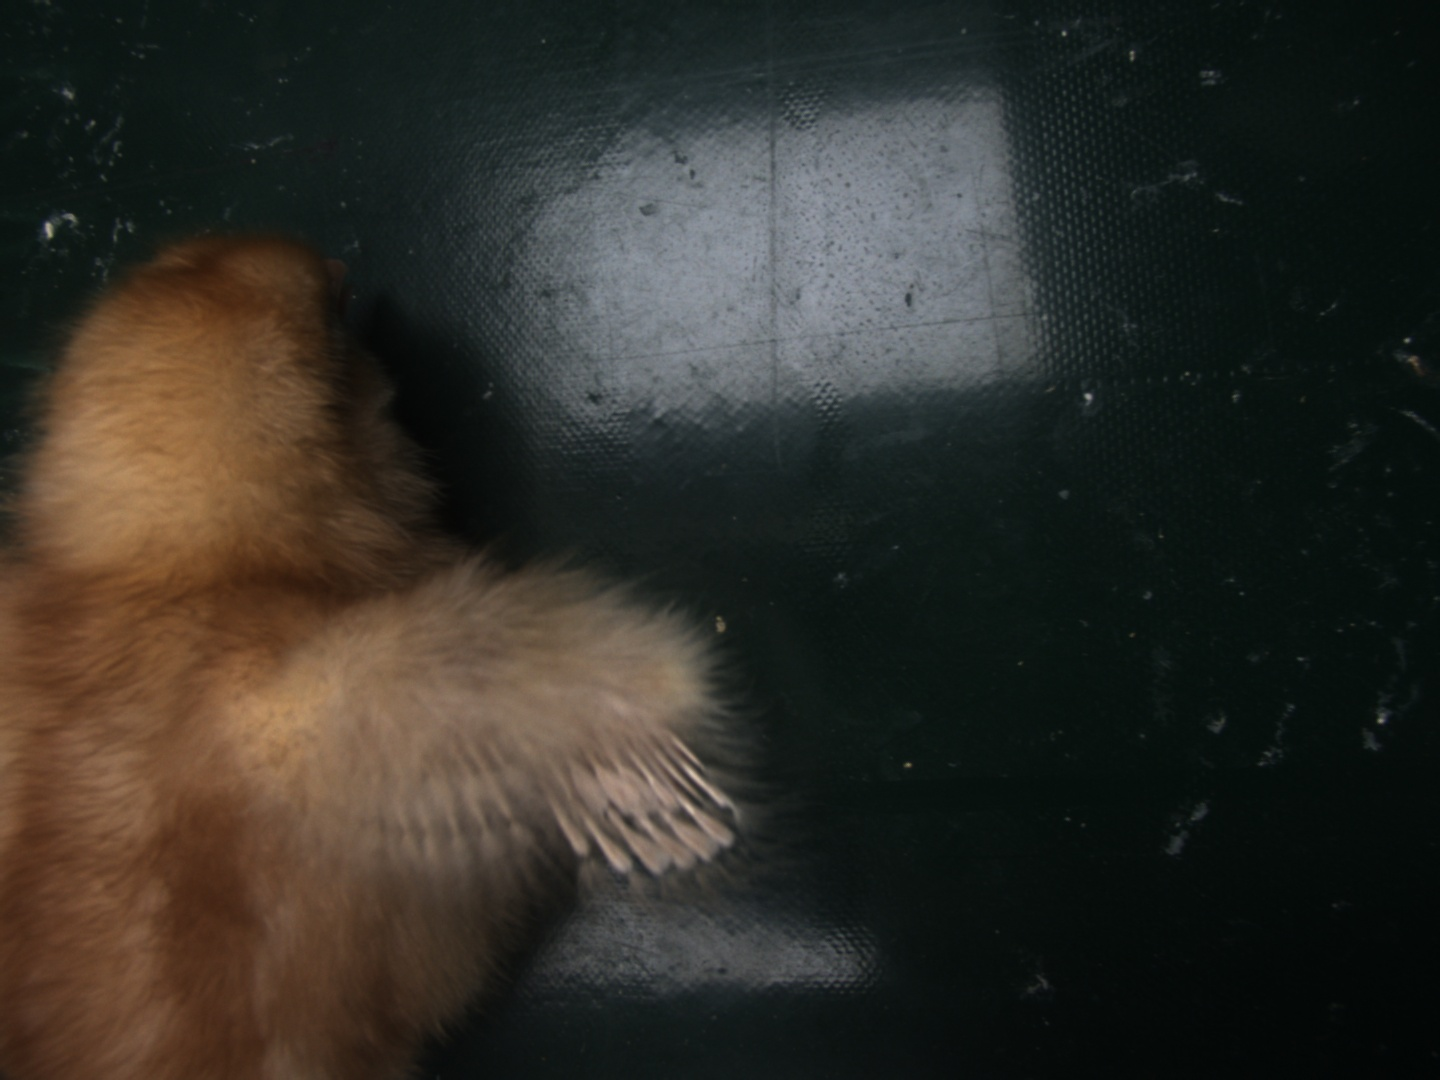female: (543, 720, 742, 871)
